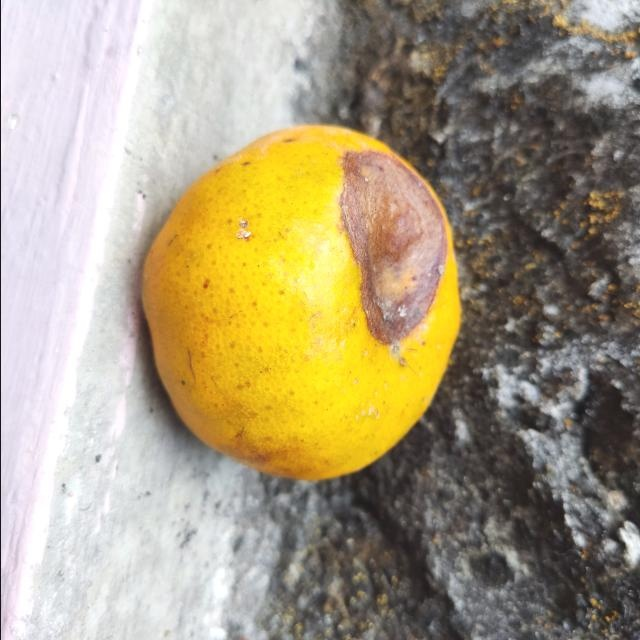agrume: (139, 123, 461, 481)
